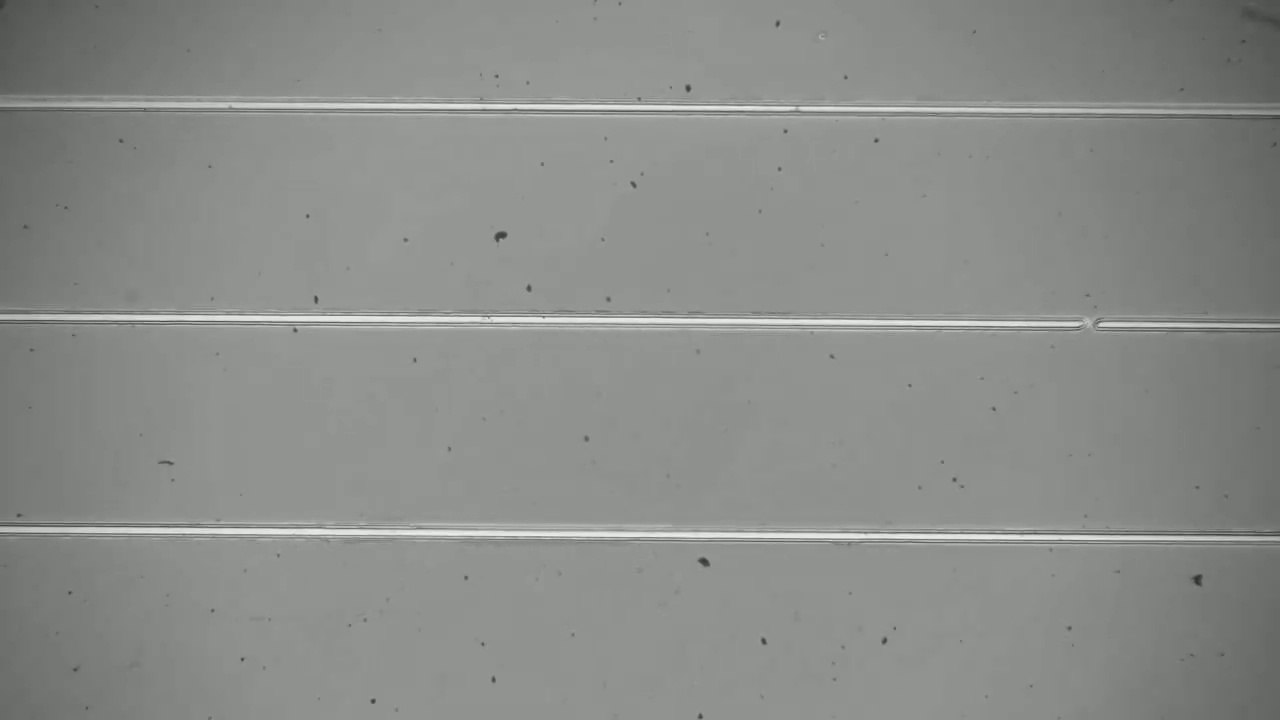open: (1064, 301, 1108, 348)
